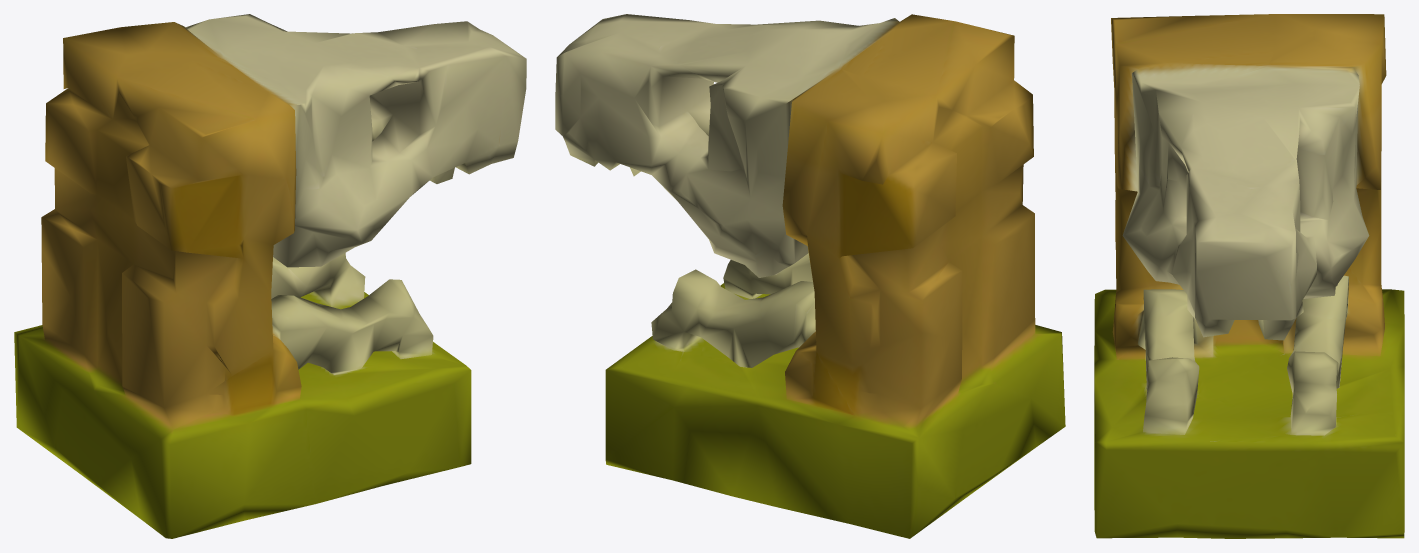
Rendered from textures.glb.
The picture shows the model from 3 angles, left to right: view 1: azimuth 30°, elevation 25°; view 2: azimuth 150°, elevation 25°; view 3: azimuth 270°, elevation 25°; orthographic projection.
Parts seen in each view (by area): view 1: tripo_node_52cc37df-9b76-4579-9082-a3347edc96e8; view 2: tripo_node_52cc37df-9b76-4579-9082-a3347edc96e8; view 3: tripo_node_52cc37df-9b76-4579-9082-a3347edc96e8.
Part boxes in pixels (x1,y1,x2,y2): tripo_node_52cc37df-9b76-4579-9082-a3347edc96e8: (14,14,526,538); tripo_node_52cc37df-9b76-4579-9082-a3347edc96e8: (555,14,1065,538); tripo_node_52cc37df-9b76-4579-9082-a3347edc96e8: (1094,14,1404,538).
Bounding box in the file's own units: 1 × 0.9009 × 0.6433.
1 material, 1 textured.
